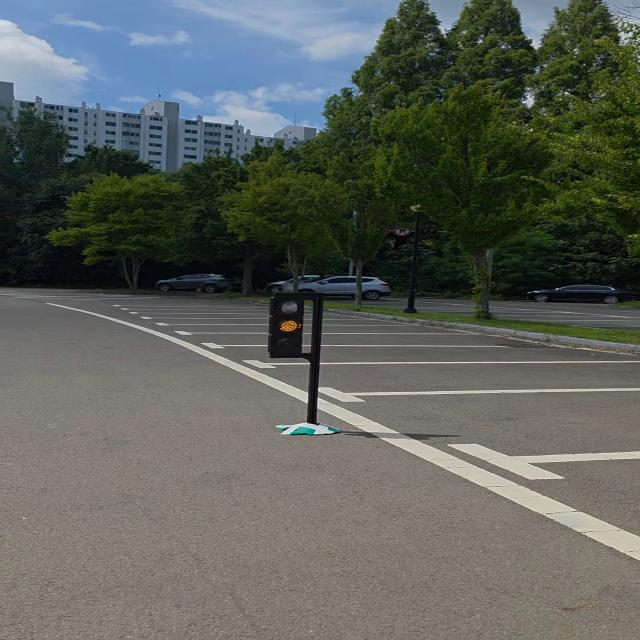yellow: (264, 287, 314, 364)
